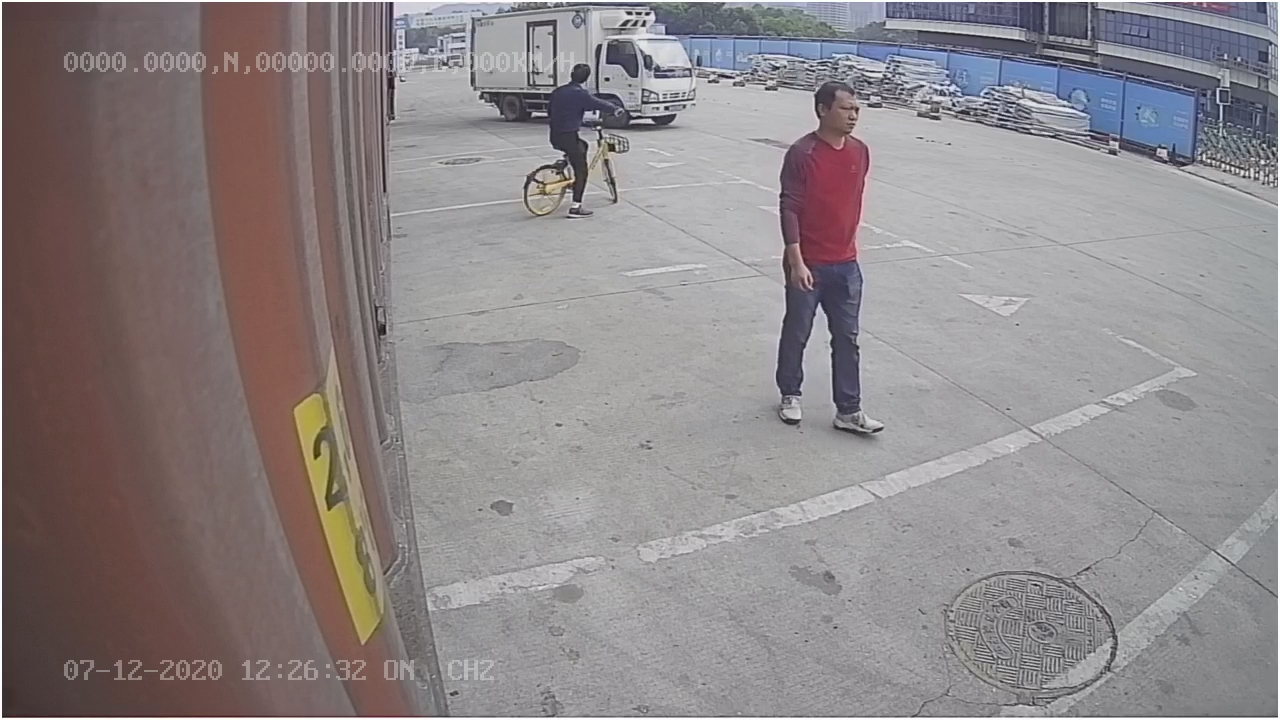person: (770, 82, 898, 439)
